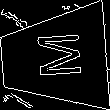M_W: (26, 34, 81, 83)
